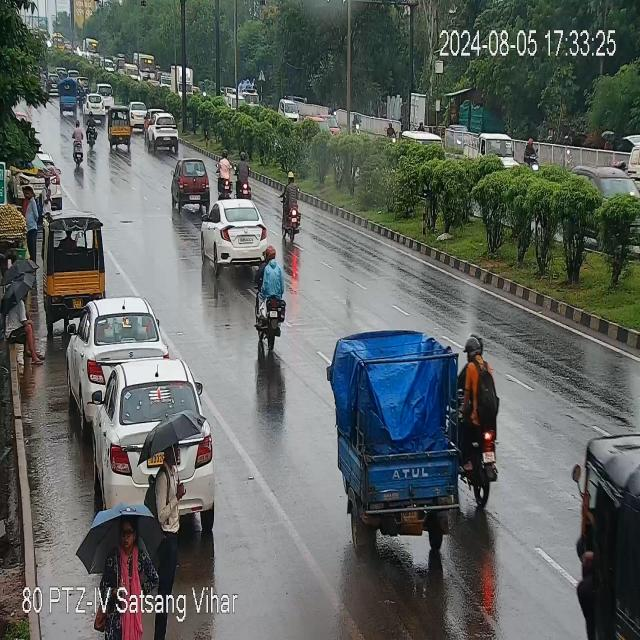2-wheelers: (462, 328, 499, 504), (250, 251, 292, 354), (279, 178, 309, 244), (231, 154, 258, 199), (215, 150, 238, 198), (70, 118, 86, 170), (86, 112, 100, 150), (525, 137, 538, 168), (387, 122, 396, 141), (353, 117, 360, 132)
auto: (337, 322, 463, 548), (567, 421, 636, 640), (44, 213, 108, 312), (106, 108, 130, 154), (59, 76, 78, 115)
car: (67, 299, 165, 400), (94, 344, 144, 506), (199, 202, 271, 266), (171, 156, 211, 214), (146, 116, 180, 152), (278, 98, 311, 125), (83, 94, 103, 119), (129, 98, 143, 130), (97, 83, 115, 107), (144, 108, 156, 130)
pedestrian: (97, 516, 157, 629), (152, 436, 192, 565), (2, 294, 44, 365), (20, 185, 44, 258)
truck: (462, 130, 518, 172)
